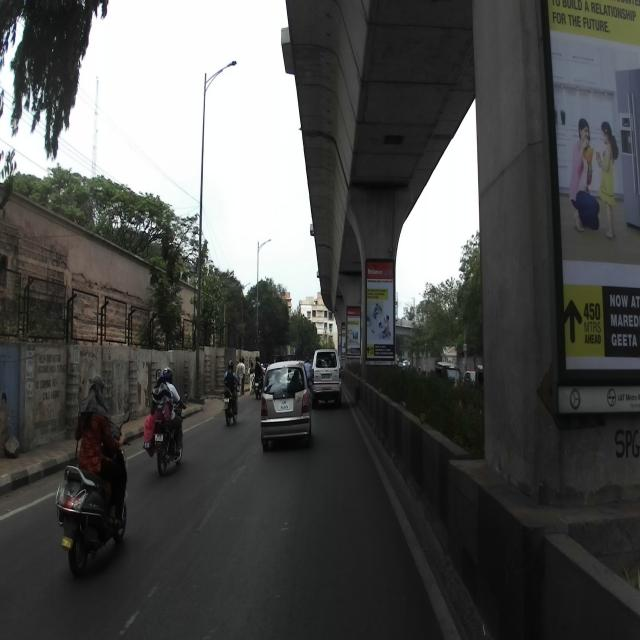Car_Chevrolet: (312, 346, 341, 406)
Car_Hyundai: (260, 359, 312, 450)
motorcycle_Hero: (152, 391, 186, 477)
scooter: (54, 406, 130, 575)
